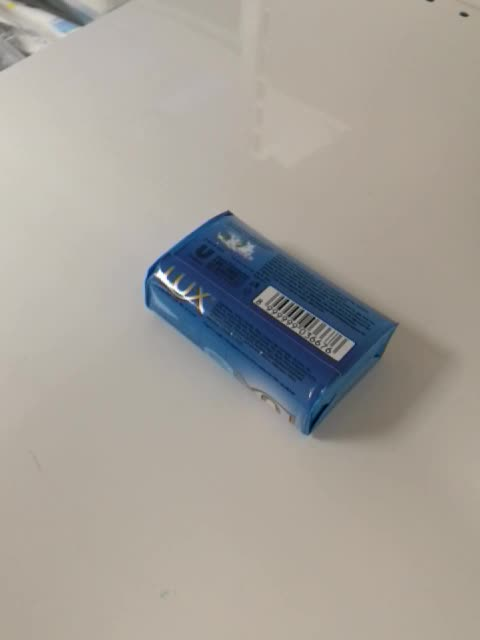soap: (141, 207, 400, 438)
